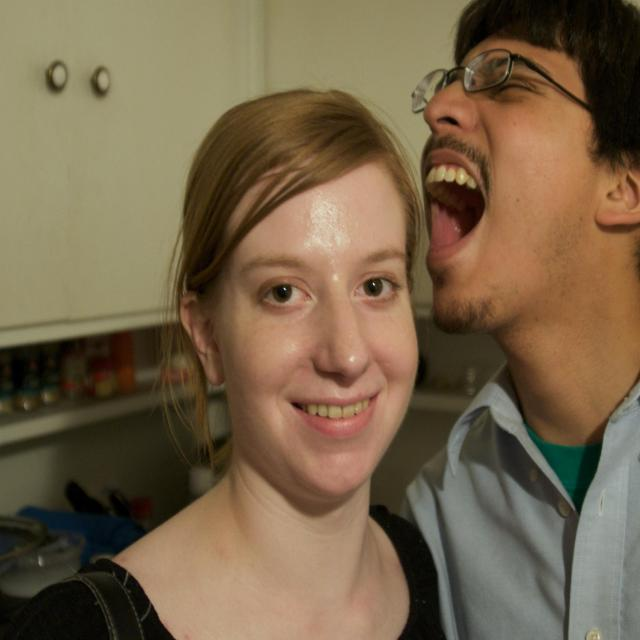no-glass: (252, 272, 407, 312)
